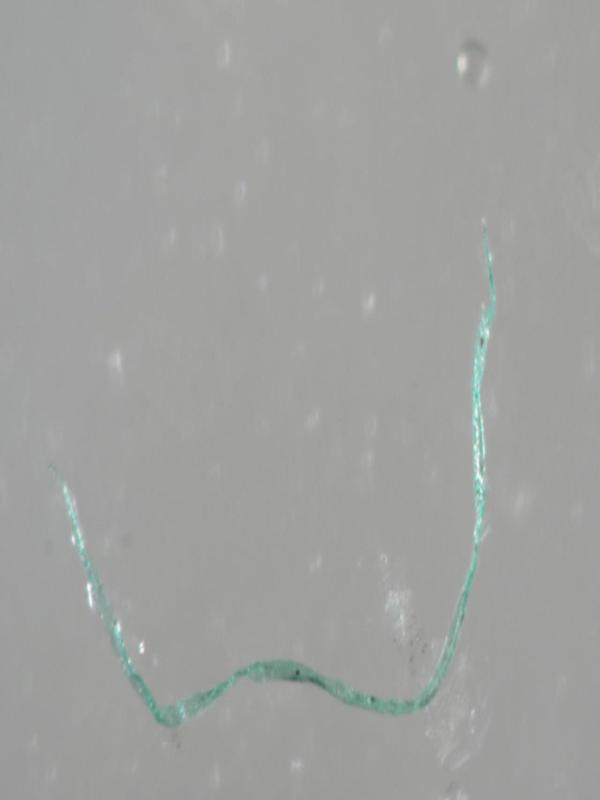microplastic: (47, 214, 497, 729)
